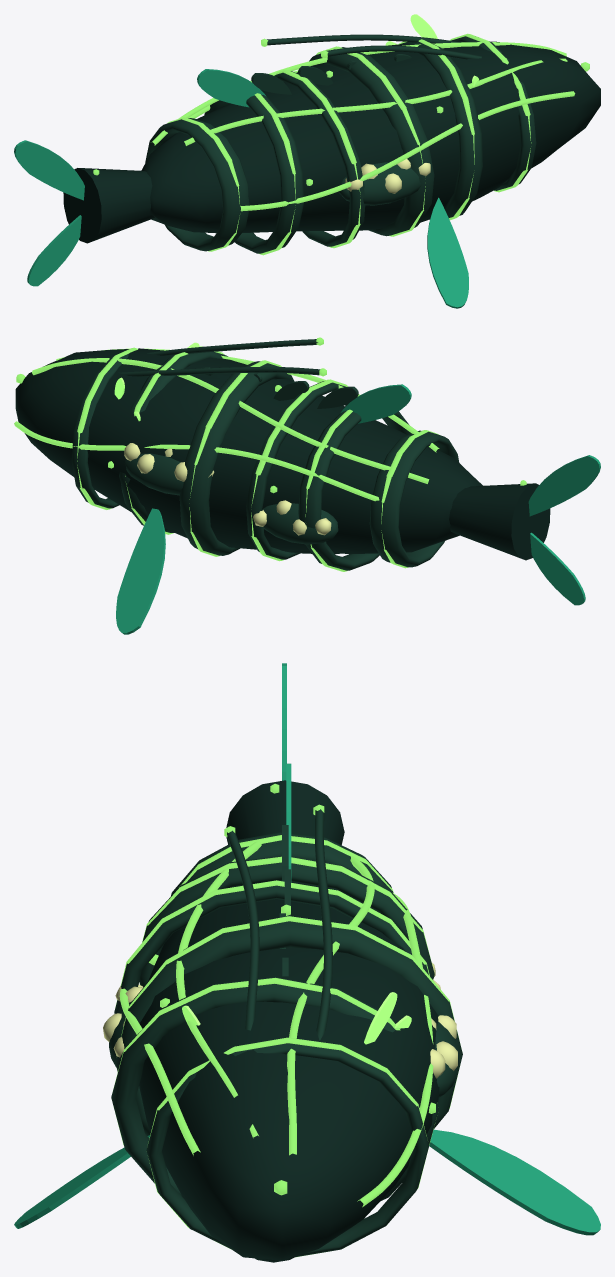
Rendered from cruiser-pelagia.glb.
3 renders of one model, top to bottom at view 1: azimuth 30°, elevation 25°; view 2: azimuth 150°, elevation 25°; view 3: azimuth 270°, elevation 25°, orthographic. The views are drawn at different scales.
Parts seen in each view (by area): view 1: hull, tail_peduncle, growth_ring_4, growth_ring_1, growth_ring_2, growth_ring_5, pectoral_starboard, growth_ring_3, tail_fluke_upper, vein_flank_starboard, vein_dorsal_starboard, launcher_starboard_sheath (+15 smaller); view 2: hull, growth_ring_4, tail_peduncle, growth_ring_1, pectoral_port, growth_ring_2, growth_ring_3, tail_fluke_upper, growth_ring_6, vein_dorsal_port, vein_flank_port, growth_ring_5 (+17 smaller); view 3: hull, growth_ring_4, growth_ring_5, growth_ring_6, pectoral_port, growth_ring_2, tail_peduncle, growth_ring_3, growth_ring_1, antenna_port, vein_dorsal_port, antenna_starboard (+11 smaller).
Boxes of the visible parts, bbox=[...] form: hull: bbox=[141, 41, 600, 233]; tail_peduncle: bbox=[63, 168, 154, 243]; growth_ring_4: bbox=[309, 47, 434, 236]; growth_ring_1: bbox=[145, 118, 249, 251]; growth_ring_2: bbox=[204, 94, 303, 253]; growth_ring_5: bbox=[399, 41, 482, 219]; pectoral_starboard: bbox=[427, 197, 468, 308]; growth_ring_3: bbox=[274, 71, 365, 246]; tail_fluke_upper: bbox=[14, 140, 84, 200]; vein_flank_starboard: bbox=[240, 91, 575, 211]; vein_dorsal_starboard: bbox=[184, 58, 567, 145]; launcher_starboard_sheath: bbox=[338, 162, 421, 205]; hull: bbox=[15, 348, 482, 554]; growth_ring_4: bbox=[179, 361, 294, 555]; tail_peduncle: bbox=[449, 483, 550, 560]; growth_ring_1: bbox=[369, 430, 459, 567]; pectoral_port: bbox=[116, 508, 165, 634]; growth_ring_2: bbox=[298, 411, 410, 570]; growth_ring_3: bbox=[246, 381, 347, 559]; tail_fluke_upper: bbox=[528, 455, 600, 516]; growth_ring_6: bbox=[71, 353, 128, 508]; vein_dorsal_port: bbox=[32, 358, 429, 483]; vein_flank_port: bbox=[14, 421, 379, 501]; growth_ring_5: bbox=[119, 352, 227, 532]; hull: bbox=[139, 880, 439, 1260]; growth_ring_4: bbox=[115, 921, 462, 1135]; growth_ring_5: bbox=[111, 977, 438, 1200]; growth_ring_6: bbox=[146, 1043, 428, 1257]; pectoral_port: bbox=[429, 1129, 600, 1235]; growth_ring_2: bbox=[139, 856, 434, 987]; tail_peduncle: bbox=[226, 780, 344, 844]; growth_ring_3: bbox=[114, 885, 428, 1013]; growth_ring_1: bbox=[171, 832, 393, 895]; antenna_port: bbox=[315, 809, 332, 1040]; vein_dorsal_port: bbox=[287, 856, 374, 1155]; antenna_starboard: bbox=[227, 830, 259, 1030].
Size of the model in its own units: 128 by 47.75 by 72.4.
